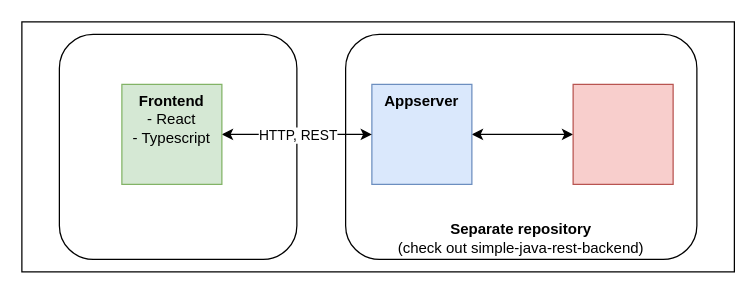
Some shapes in this 756 by 294 pixel diagram are drawn without their labels. Each missing label, with the box of its shape:
Database: (572, 83, 673, 184)
Provided by this repository: (58, 33, 297, 259)
